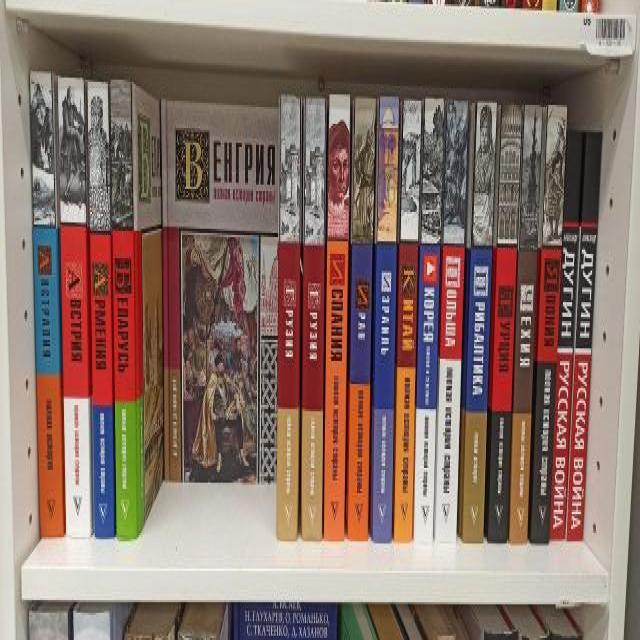book: (30, 72, 64, 538), (510, 105, 546, 542), (531, 107, 567, 543), (462, 101, 497, 543), (434, 101, 468, 542), (549, 129, 585, 539), (58, 77, 90, 537), (567, 132, 603, 540), (489, 104, 522, 543), (414, 99, 444, 542), (393, 99, 421, 542), (348, 98, 376, 539), (373, 98, 400, 544), (111, 80, 137, 538), (88, 81, 114, 539), (324, 95, 350, 542), (277, 94, 300, 540), (302, 98, 325, 539)
